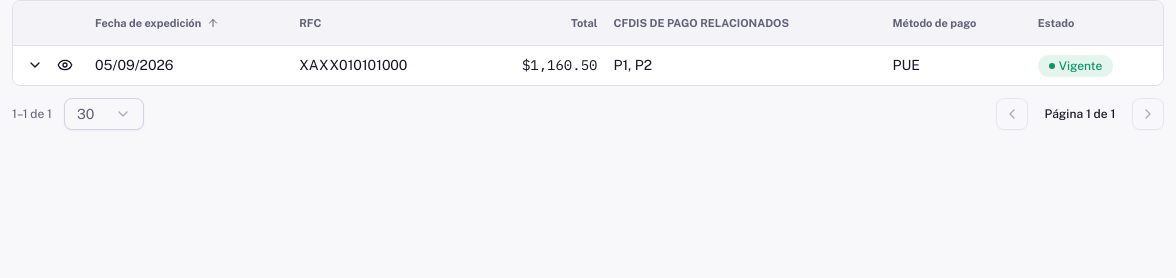
Test case: CfdiTabla › acciones de la fila › desplegar muestra los conceptos del CFDI y volver a pulsar los oculta
Expected: the text "Servicio de consultoría" is not shown
Click the button named "Ver conceptos".
click(35, 65)  # box [21, 51, 49, 79]
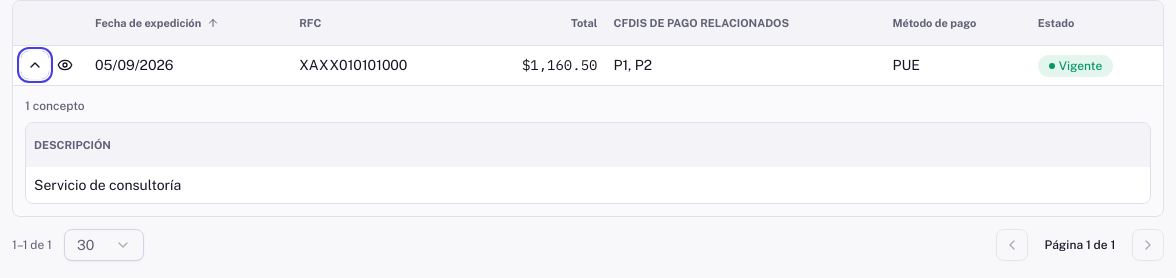
Expected: the text "Servicio de consultoría" is shown, [26, 166, 1150, 202]
Expected: the button named "Ocultar conceptos" is expanded
Click the button named "Ocultar conceptos".
click(35, 65)  # box [21, 51, 49, 79]
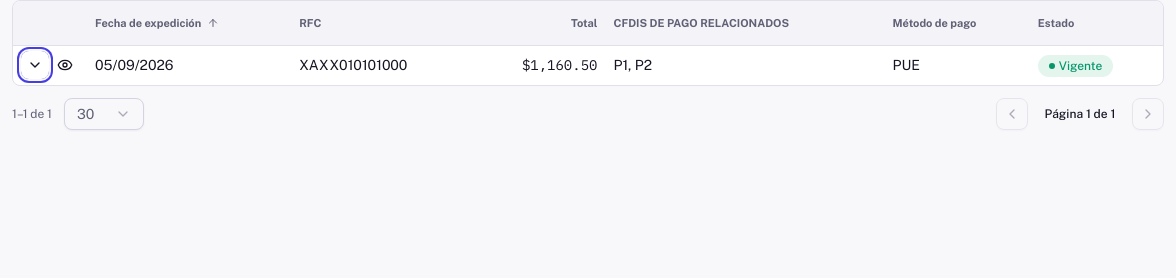
Expected: the text "Servicio de consultoría" is gone
